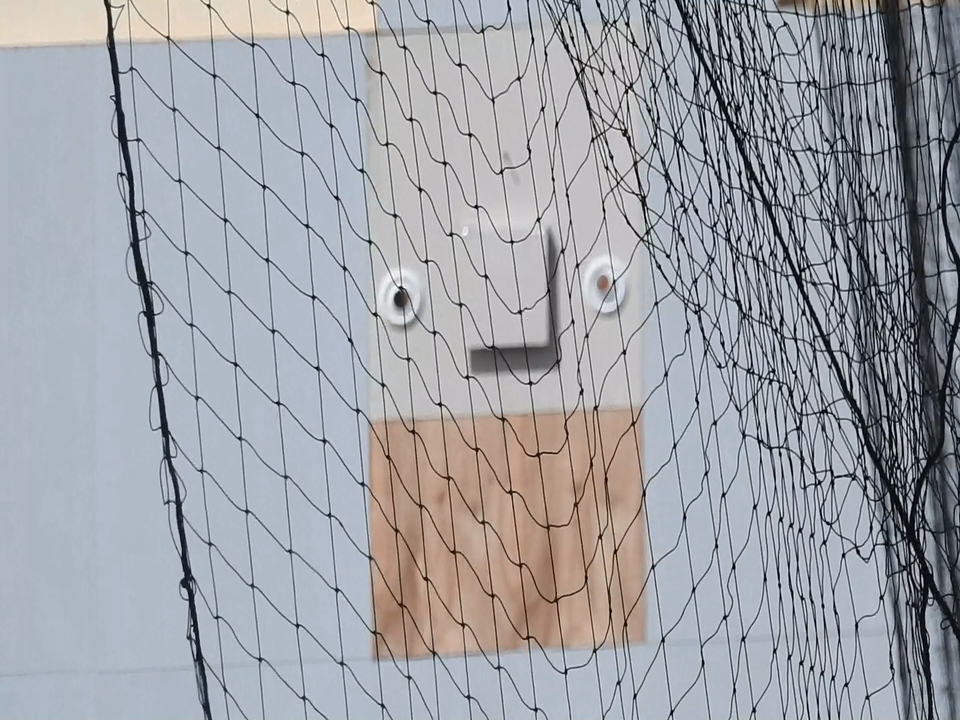facade: (376, 221, 627, 348)
